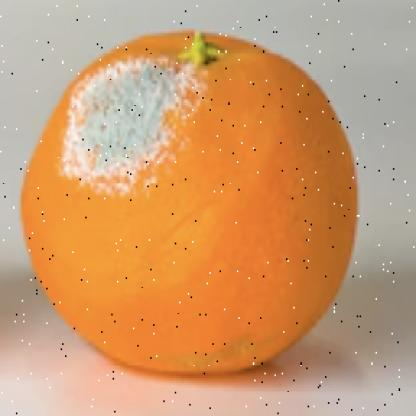rotten: (19, 28, 357, 382)
